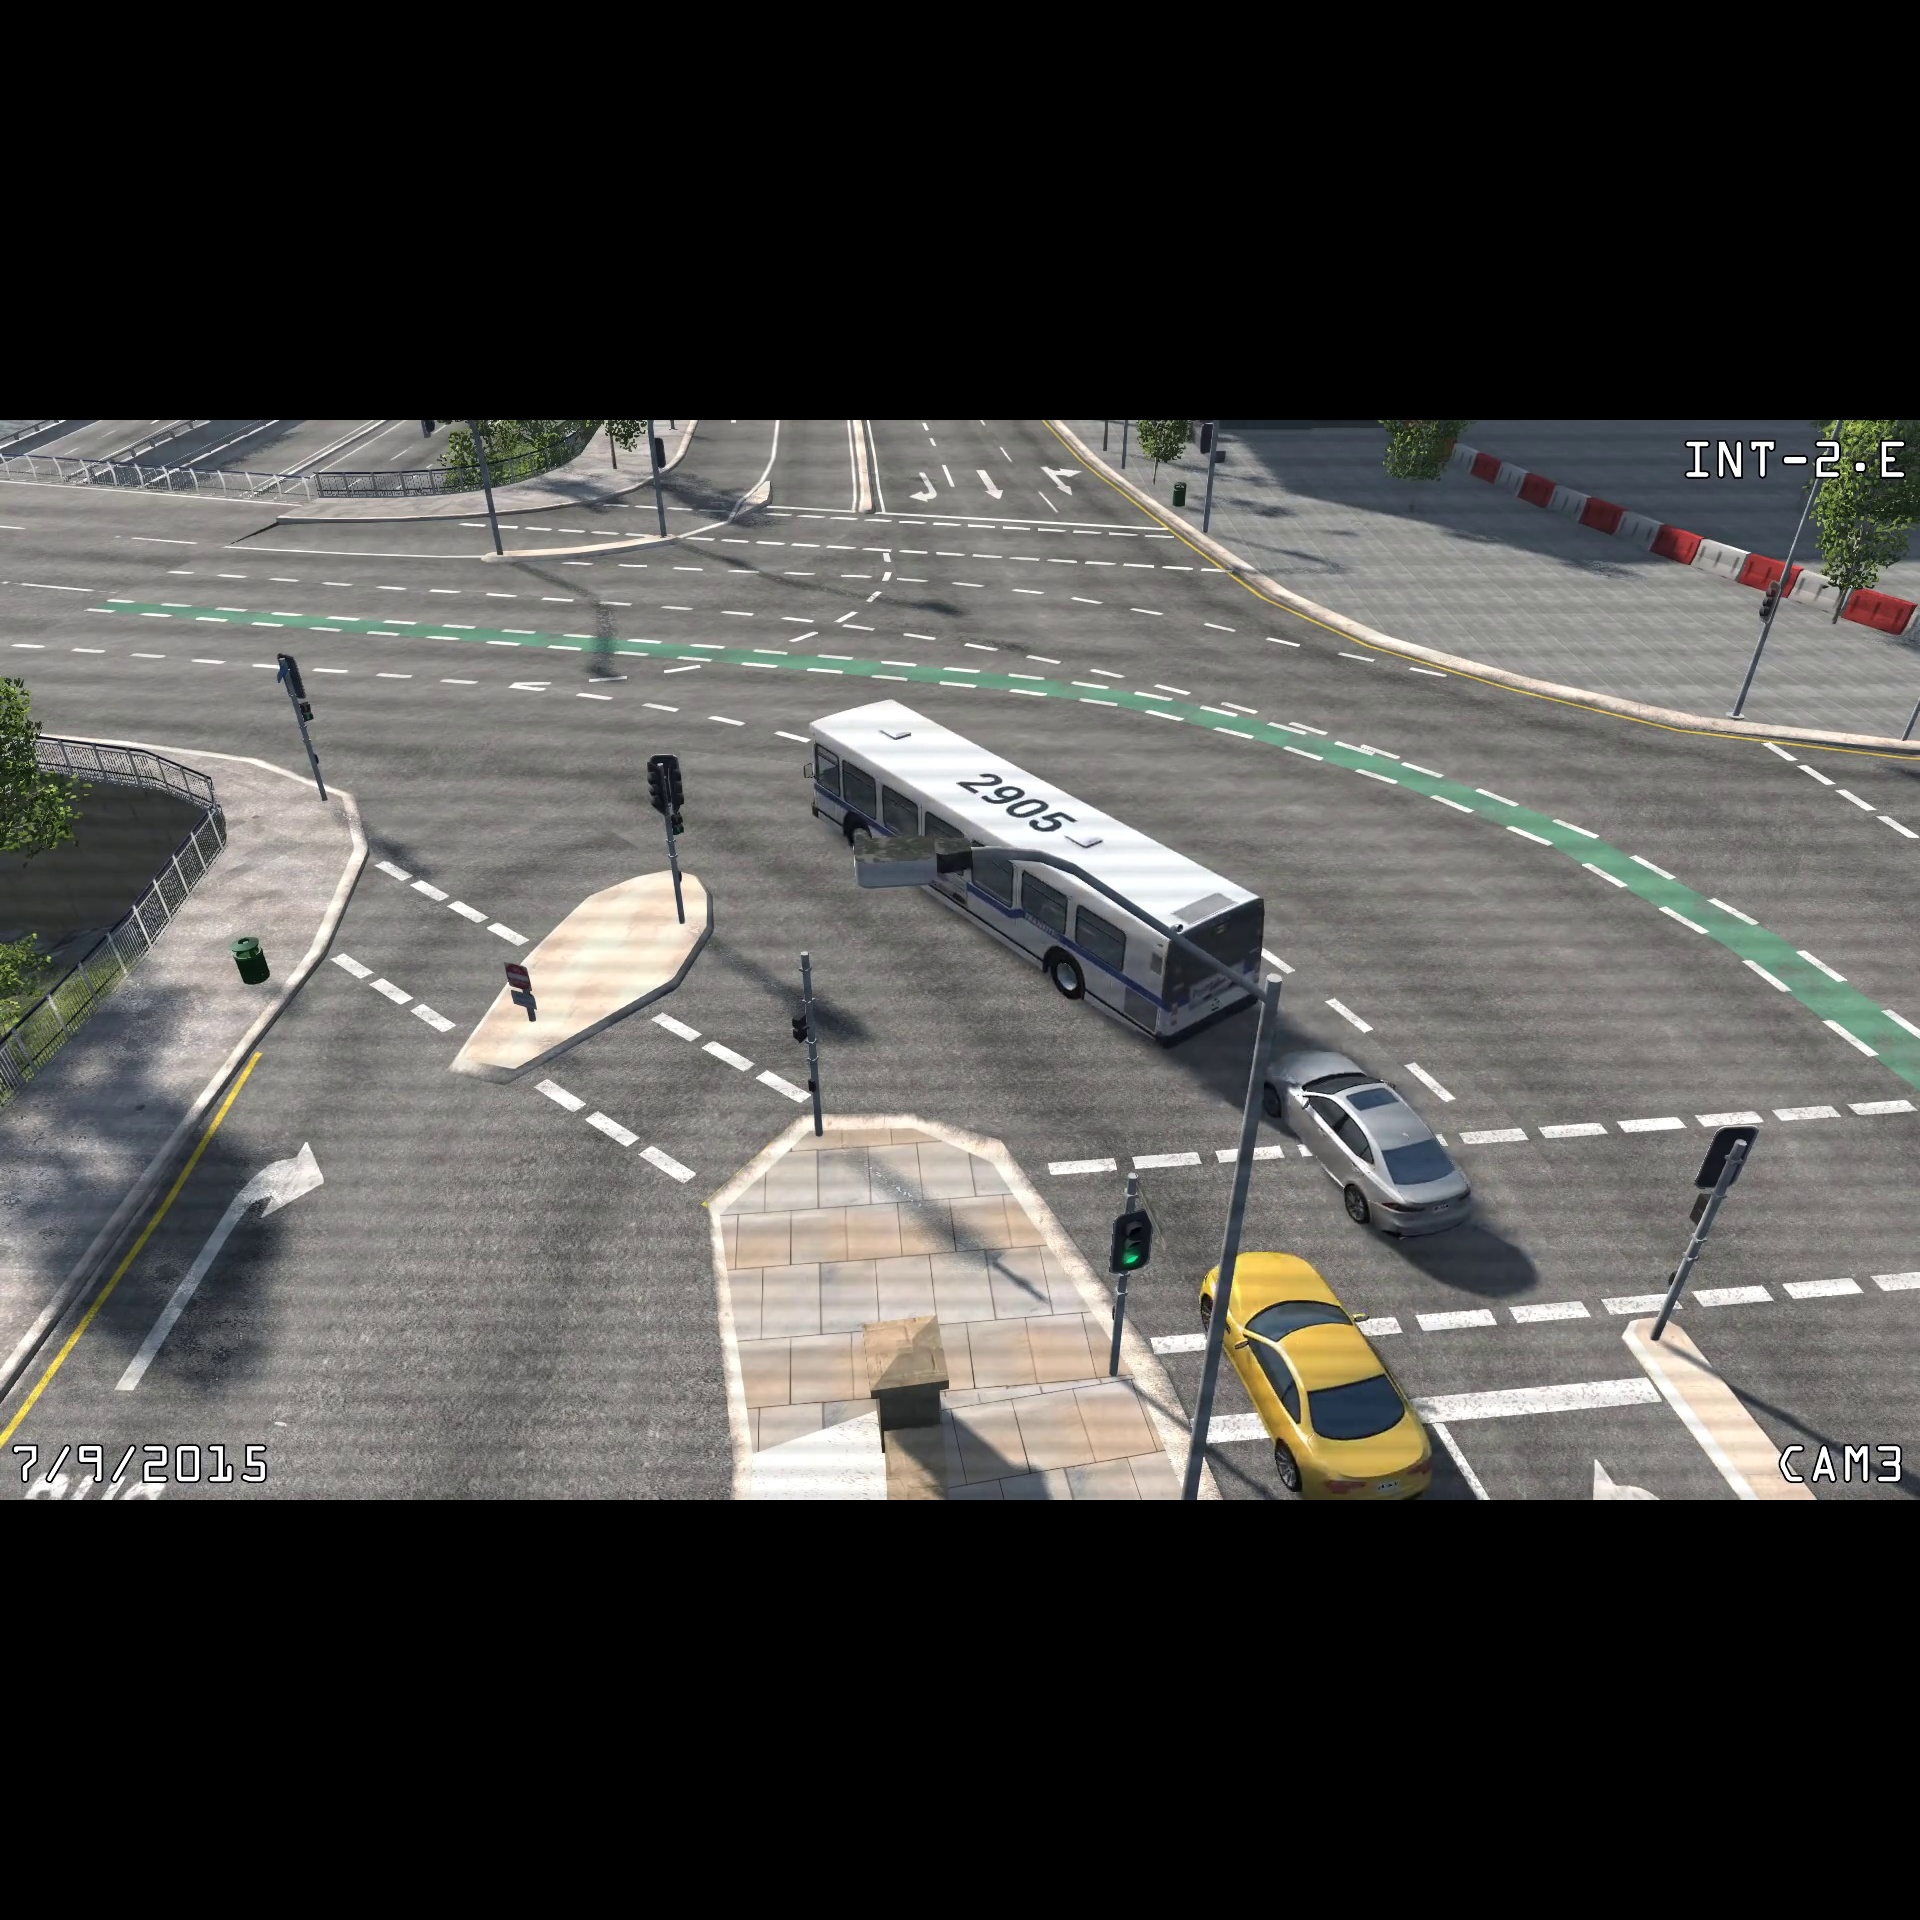vehicle: (798, 687, 1266, 1050), (1194, 1238, 1444, 1502), (1255, 1037, 1482, 1247)
